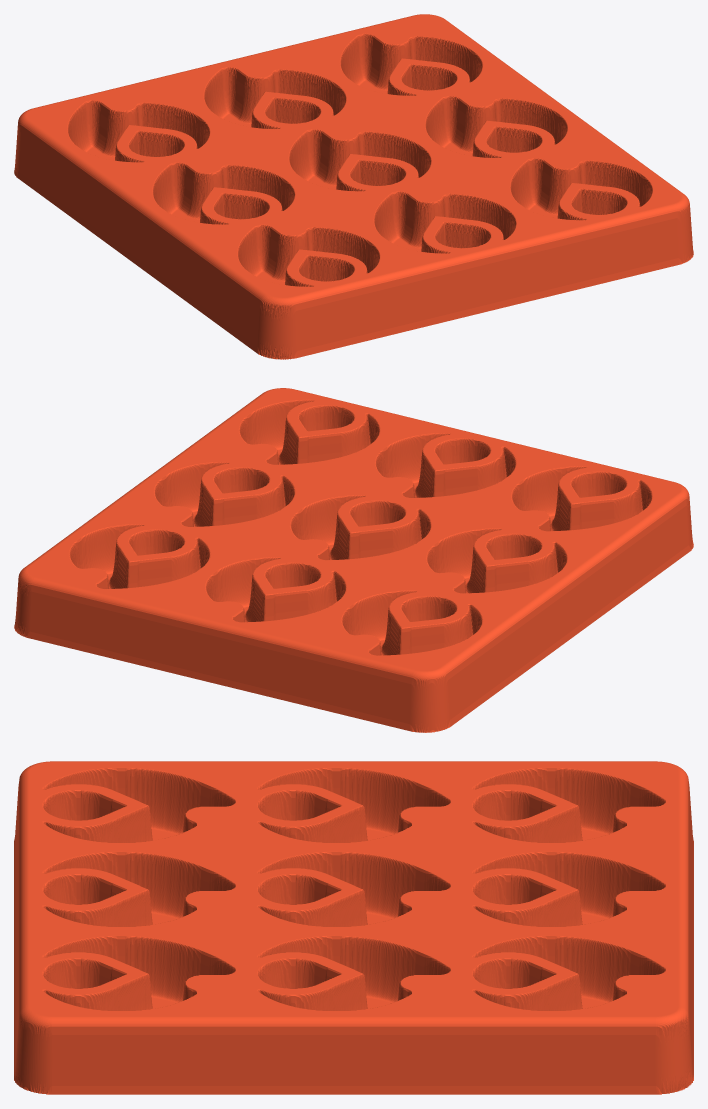
Rendered from mold.glb.
3 renders of one model, top to bottom at view 1: azimuth 30°, elevation 25°; view 2: azimuth 150°, elevation 25°; view 3: azimuth 270°, elevation 25°, orthographic. The views are drawn at different scales.
Parts seen in each view (by area): view 1: geometry_0; view 2: geometry_0; view 3: geometry_0.
Part boxes in pixels (<box>): geometry_0: <box>14,14,693,359</box>; geometry_0: <box>14,388,693,732</box>; geometry_0: <box>14,761,693,1094</box>.
Bounding box in the file's own units: 0.1483 × 0.0185 × 0.1595.
